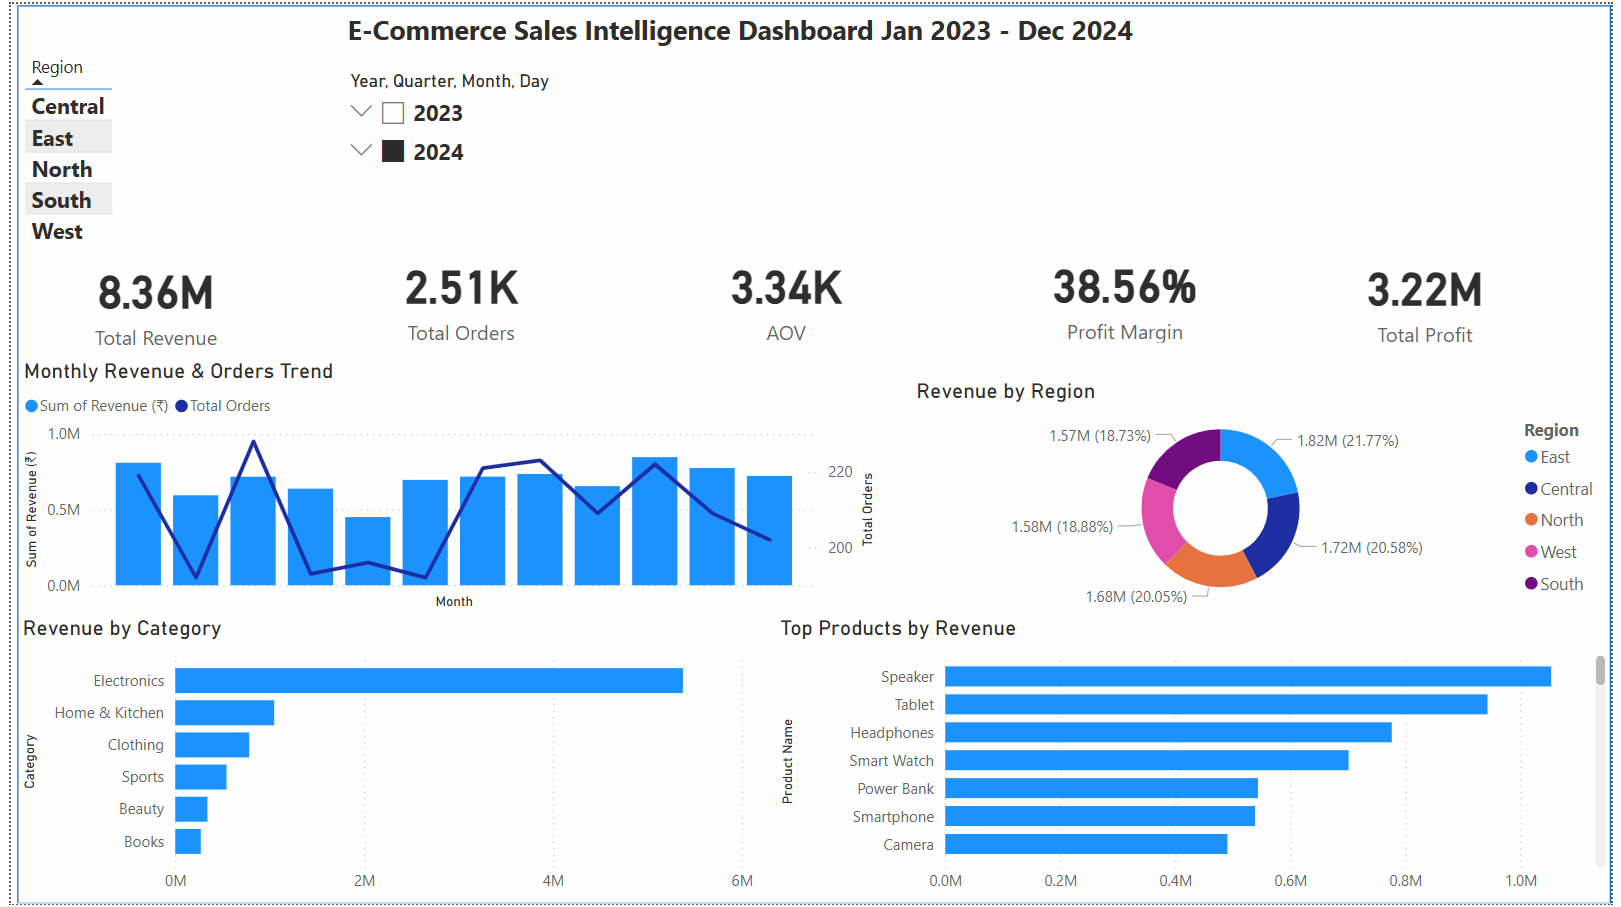

The page's visual inventory and layout, read from the dashboard file:
{"tool":"powerbi","page":{"name":"Page 1","canvas":[1280,720],"ordinal":0},"visuals":[{"type":"card","fields":{"Values":["Customer Dimension Table (dim_customer).Total Revenue"]},"box":[0,192.5,231.2,90],"z":0},{"type":"card","fields":{"Values":["Customer Dimension Table (dim_customer).AOV"]},"box":[487.5,192.5,263.8,83.8],"z":1000},{"type":"card","fields":{"Values":["Customer Dimension Table (dim_customer).Total Orders"]},"box":[223.8,192.5,271.2,83.8],"z":2000},{"type":"card","fields":{"Values":["Customer Dimension Table (dim_customer).Profit Margin"]},"box":[751.2,191.2,278.8,85],"z":3000},{"type":"card","fields":{"Values":["Customer Dimension Table (dim_customer).Total Profit"]},"box":[1015,192.5,231.2,85],"z":4000},{"type":"textbox","box":[257.8,1.1,687.8,66.7],"z":5000},{"type":"tableEx","fields":{"Values":["Customer Dimension Table (dim_customer).Region"]},"box":[5,35,242.5,180],"z":6000},{"type":"slicer","fields":{"Values":["fact_orders.Order Date.Variation.Date Hierarchy.Year","fact_orders.Order Date.Variation.Date Hierarchy.Quarter","fact_orders.Order Date.Variation.Date Hierarchy.Month","fact_orders.Order Date.Variation.Date Hierarchy.Day"]},"box":[257.6,47.8,319.6,156.5],"z":7000},{"type":"donutChart","title":"Revenue by Region","fields":{"Category":["fact_orders.Region"],"Y":["Sum(fact_orders.Revenue (₹))"]},"box":[718.8,298.8,561.2,190],"z":8000},{"type":"clusteredBarChart","title":"Revenue by Category","fields":{"Category":["fact_orders.Category"],"Y":["Sum(fact_orders.Revenue (₹))"]},"box":[4.4,488.9,593.3,231.1],"z":9000},{"type":"clusteredBarChart","title":"Top Products by Revenue","fields":{"Category":["fact_orders.Product Name"],"Y":["Sum(fact_orders.Revenue (₹))"]},"box":[610,488.9,670,231.1],"z":10000},{"type":"lineClusteredColumnComboChart","title":"Monthly Revenue & Orders Trend","fields":{"Category":["fact_orders.MonthYear2"],"Y":["Sum(fact_orders.Revenue (₹))"],"Y2":["Customer Dimension Table (dim_customer).Total Orders"]},"box":[5,282.5,691.2,206.2],"z":11000}]}

Visuals, with their boxes in screenshot pixels (x1, y1, x2, y2), scaled from the page's 1280x720 canvas onto the 1621x907 screenshot:
card - Customer Dimension Table (dim_customer).Total Revenue: 0,242,293,356
card - Customer Dimension Table (dim_customer).AOV: 617,242,951,348
card - Customer Dimension Table (dim_customer).Total Orders: 283,242,627,348
card - Customer Dimension Table (dim_customer).Profit Margin: 951,241,1304,348
card - Customer Dimension Table (dim_customer).Total Profit: 1285,242,1578,350
textbox: 326,1,1198,85
tableEx - Customer Dimension Table (dim_customer).Region: 6,44,313,271
slicer - fact_orders.Order Date.Variation.Date Hierarchy.Year x fact_orders.Order Date.Variation.Date Hierarchy.Quarter: 326,60,731,257
"Revenue by Region" donutChart: 910,376,1620,616
"Revenue by Category" clusteredBarChart: 6,616,757,906
"Top Products by Revenue" clusteredBarChart: 773,616,1620,906
"Monthly Revenue & Orders Trend" lineClusteredColumnComboChart: 6,356,882,616
